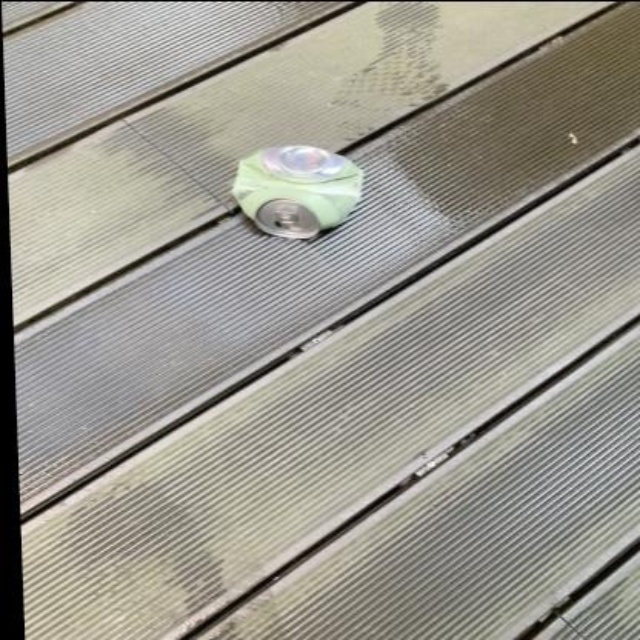trash: (232, 146, 362, 237)
